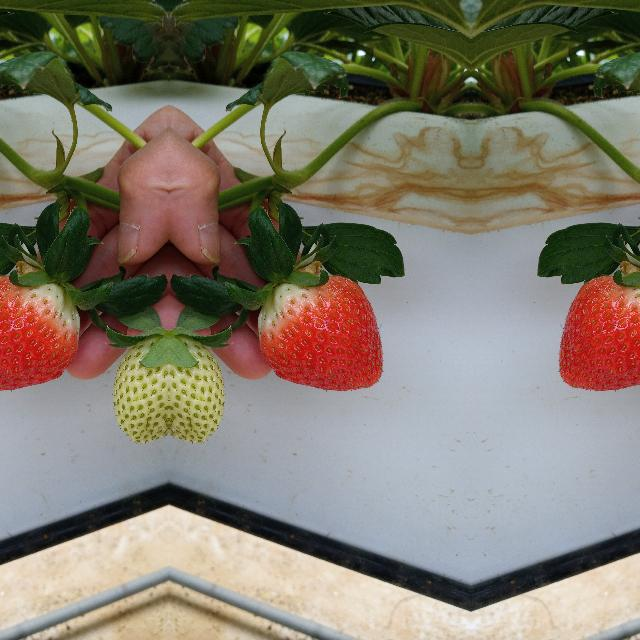Health_100: (257, 274, 383, 392), (558, 274, 640, 391), (0, 274, 79, 391)
Health_25: (168, 335, 230, 453), (106, 335, 168, 453)
